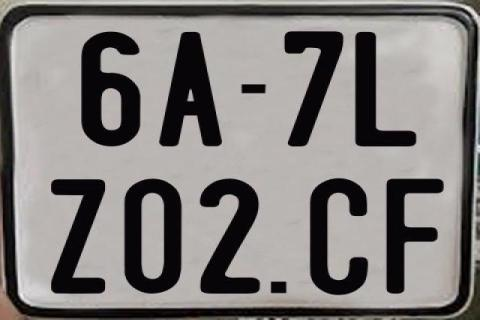0: (197, 178, 263, 298), (80, 29, 140, 145), (281, 30, 341, 146), (123, 178, 183, 294)
A: (158, 31, 224, 149)
C: (309, 176, 367, 298)
F: (384, 177, 444, 293)
L: (354, 32, 420, 146)
Z: (48, 178, 102, 298)
